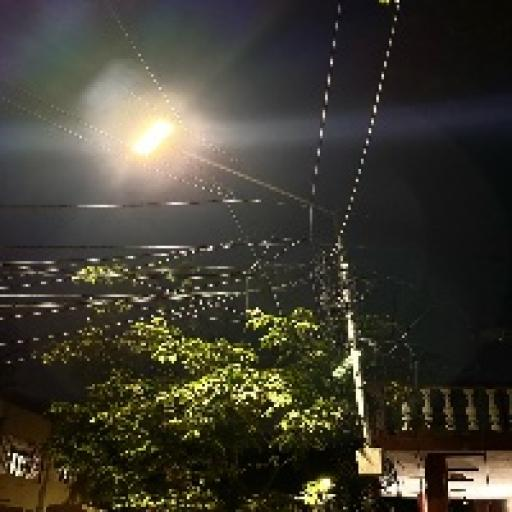Working: (112, 105, 200, 177)
